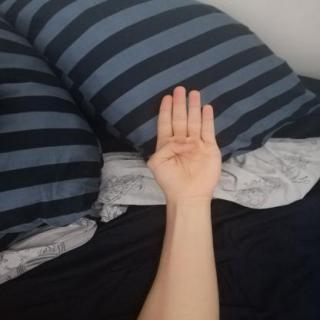KAAF: (137, 78, 235, 208)
